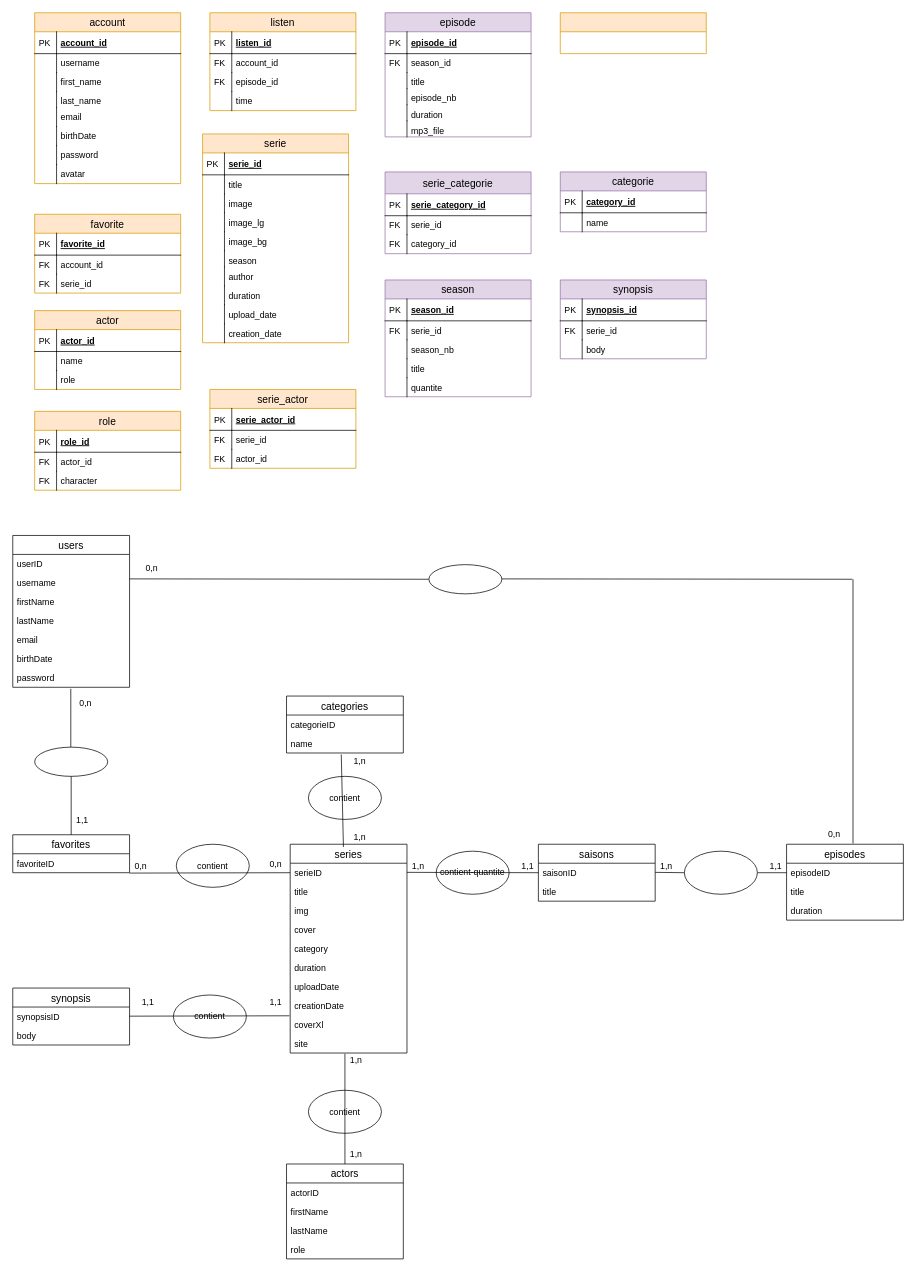
This 916x1274 diagram has some shape labels left out. Here are the shapes that lost their labels. From the top down, the centre of each, then its label:
point 633,33: analytics
point 465,579: listen -listening time
point 71,761: create
point 720,872: contient- quantite
